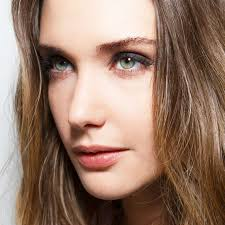pupil: (119, 57, 134, 69), (55, 59, 68, 71)
